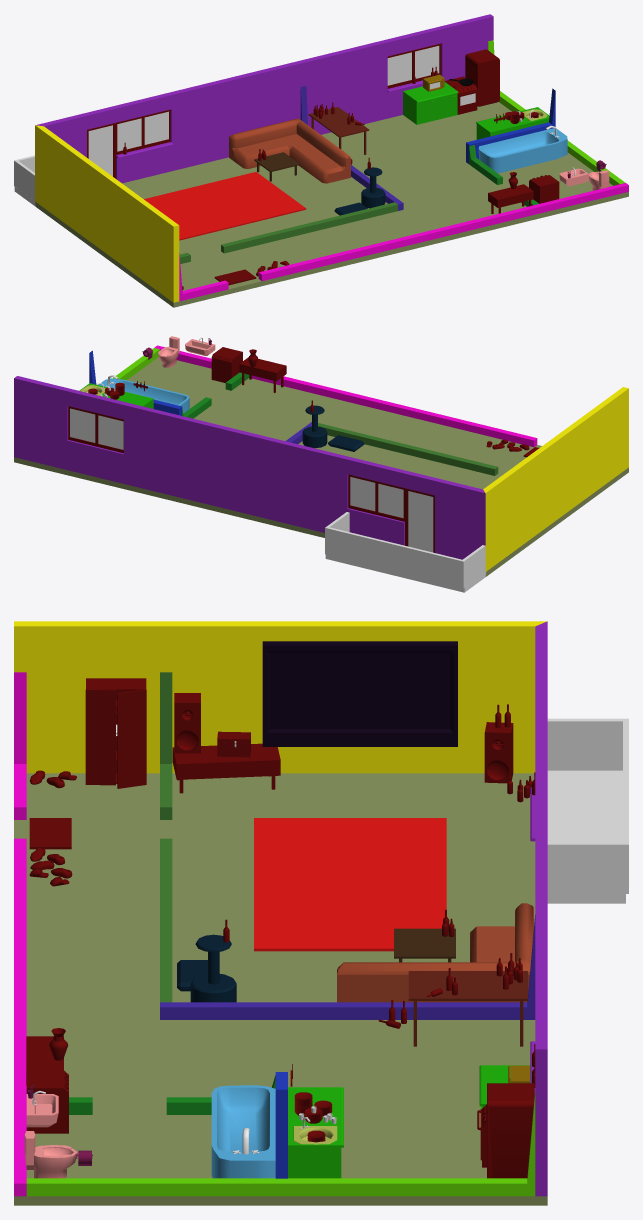
File: loka2end2.FBX
3 renders of one model, top to bottom at view 1: azimuth 30°, elevation 25°; view 2: azimuth 150°, elevation 25°; view 3: azimuth 270°, elevation 25°, orthographic. The views are drawn at different scales.
Visible parts, largest first — view 1: Box001, Box002, Box003, Box060, Box064, Box056, Box073, Box018, Box068, Box012, Object004, Object009 (+16 smaller); view 2: Box002, Box001, Box003, Box039, Box056, Box018, Object004, Box072, Box073, Box076, Box019, Box038 (+11 smaller); view 3: Box001, Box003, Box060, Box063, Box057, Box002, Box017, Box064, Box056, Box038, Box073, Box006 (+23 smaller).
Boxes of the visible parts, box(x1,y1,x2,y2) form: Box001: box(35, 102, 628, 307); Box002: box(36, 14, 493, 183); Box003: box(35, 125, 179, 302); Box060: box(144, 172, 306, 240); Box064: box(229, 118, 350, 183); Box056: box(179, 183, 628, 301); Box073: box(478, 128, 567, 173); Box018: box(179, 202, 397, 263); Box068: box(403, 86, 437, 124); Box012: box(308, 107, 369, 154); Object004: box(88, 125, 112, 176); Object009: box(478, 58, 499, 106); Box002: box(14, 376, 485, 559); Box001: box(14, 357, 628, 576); Box003: box(483, 387, 628, 571); Box039: box(325, 526, 465, 587); Box056: box(154, 345, 537, 447); Box018: box(318, 423, 498, 475); Object004: box(408, 491, 433, 552); Box072: box(302, 405, 364, 451); Box073: box(98, 378, 189, 413); Box076: box(211, 347, 242, 382); Box019: box(239, 357, 286, 392); Box038: box(325, 554, 486, 592); Box001: box(14, 773, 547, 1205); Box003: box(14, 621, 546, 773); Box060: box(254, 818, 446, 951); Box063: box(262, 641, 457, 746); Box057: box(26, 1091, 535, 1196); Box002: box(530, 621, 547, 1196); Box017: box(160, 915, 535, 1019); Box064: box(337, 903, 533, 1002); Box056: box(14, 672, 26, 1196); Box038: box(547, 770, 625, 903); Box073: box(211, 1085, 275, 1178); Box006: box(487, 1083, 534, 1178).
Size of the model in its own units: 243 by 45.89 by 147.
